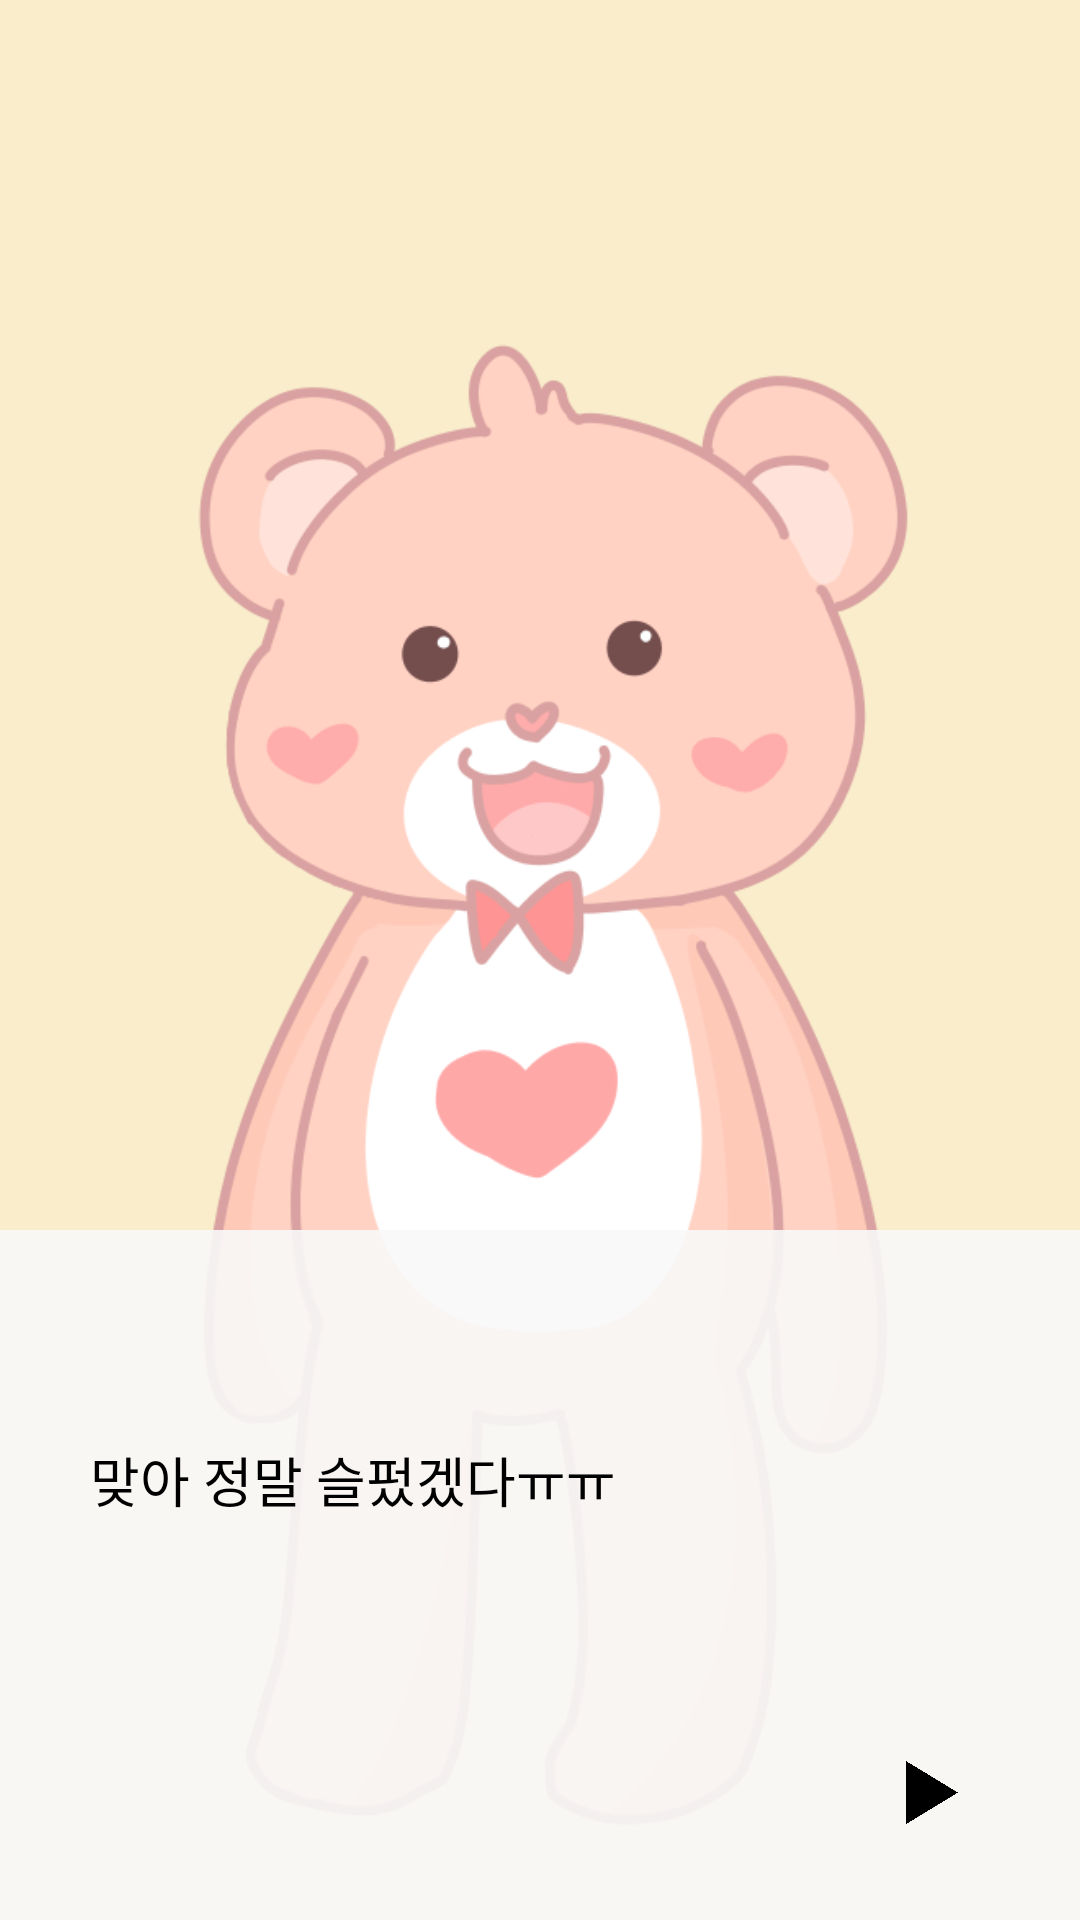

Screen size 1080px x 1920px. Icon name, then its center in pixels as [x,y]:
noun triangle: [932,1792]
